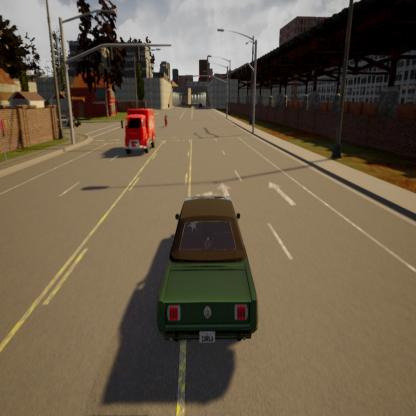Cars: (159, 183, 264, 355), (124, 104, 158, 157), (56, 109, 83, 132), (199, 102, 204, 110)
